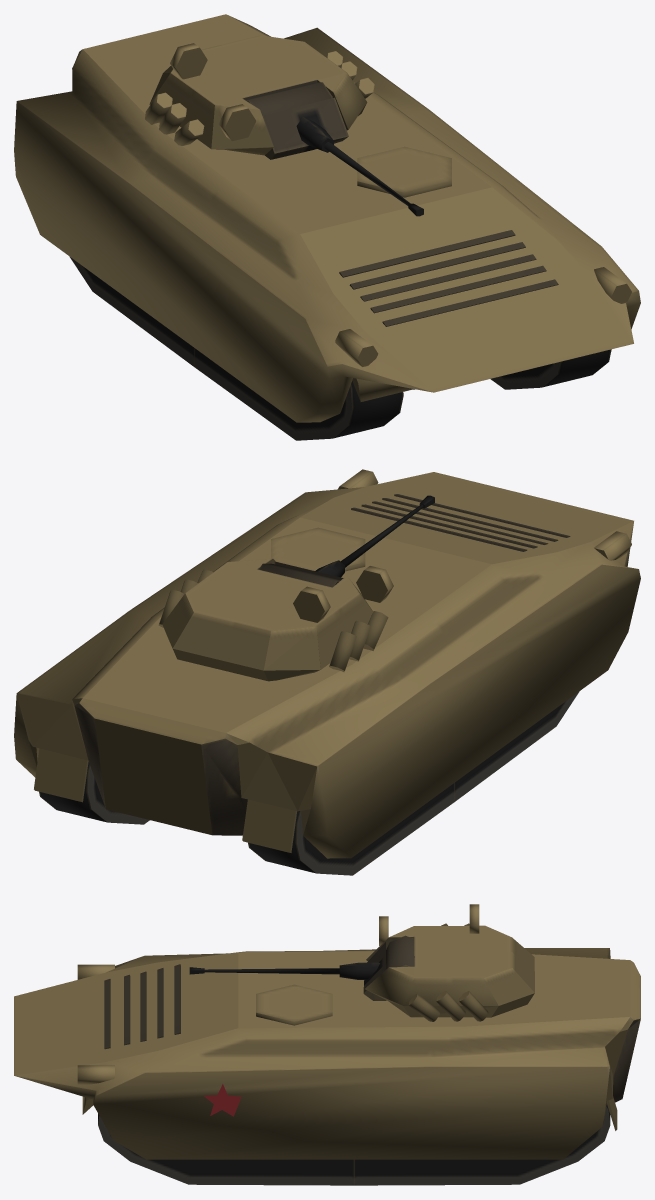
The model's file is BMP-2.DAE.
3 renders of one model, top to bottom at view 1: azimuth 30°, elevation 25°; view 2: azimuth 150°, elevation 25°; view 3: azimuth 270°, elevation 25°, orthographic. The views are drawn at different scales.
Visible parts, largest first — view 1: ov3d_BMP_2; view 2: ov3d_BMP_2; view 3: ov3d_BMP_2.
Part boxes in pixels (<box>): ov3d_BMP_2: <box>14,14,640,440</box>; ov3d_BMP_2: <box>14,469,640,875</box>; ov3d_BMP_2: <box>14,904,640,1185</box>.
Size of the model in its own units: 951 by 724 by 2036.
1 material, 1 textured.
